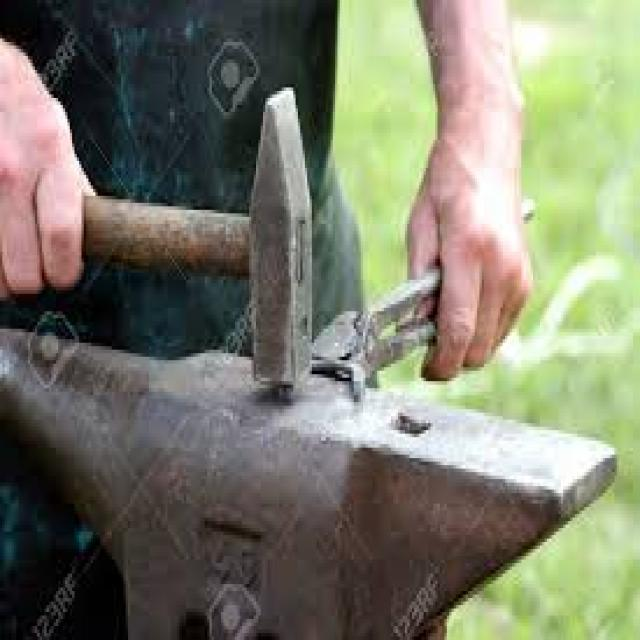hammer: (72, 86, 324, 390)
